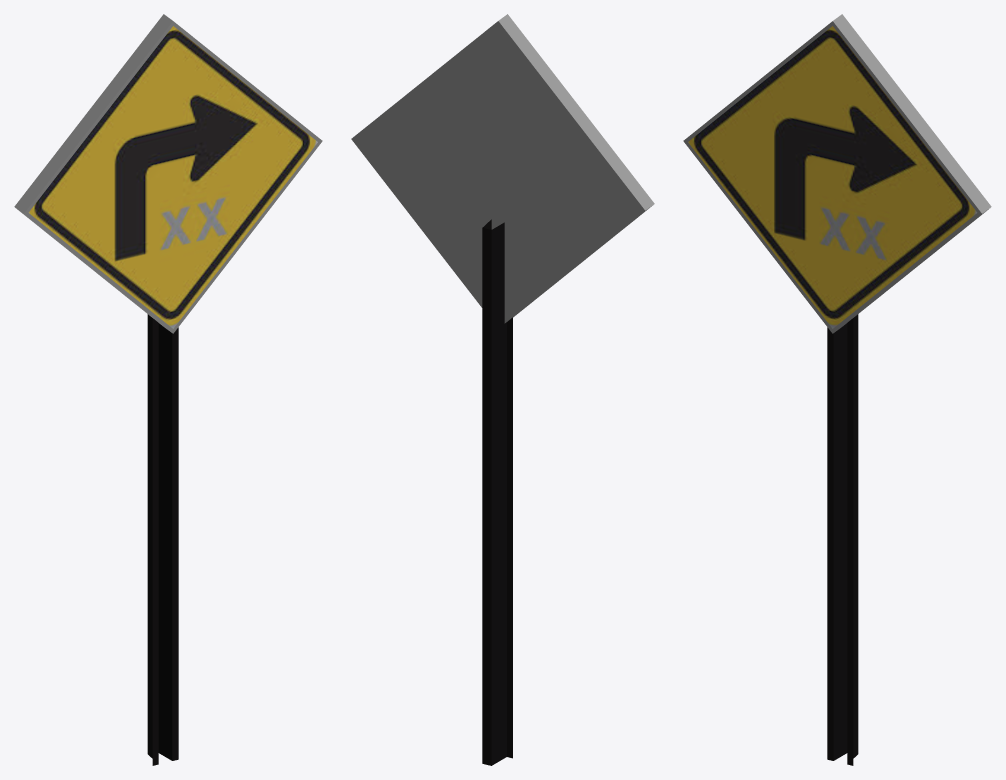
The model's file is right_turn_sign.dae.
The picture shows the model from 3 angles, left to right: view 1: azimuth 30°, elevation 25°; view 2: azimuth 150°, elevation 25°; view 3: azimuth 330°, elevation 25°; orthographic projection.
Visible parts, largest first — view 1: Cylinder, Box001.002; view 2: Cylinder, Box001.002; view 3: Cylinder, Box001.002.
Boxes of the visible parts, x1,y1,x2,y2 form: Cylinder: [14, 14, 322, 333]; Box001.002: [147, 314, 178, 765]; Cylinder: [351, 14, 654, 323]; Box001.002: [482, 219, 512, 765]; Cylinder: [683, 14, 991, 333]; Box001.002: [827, 314, 858, 765].
Size of the model in its own units: 1.8 by 0.2192 by 4.3.
3 materials, 1 textured.
